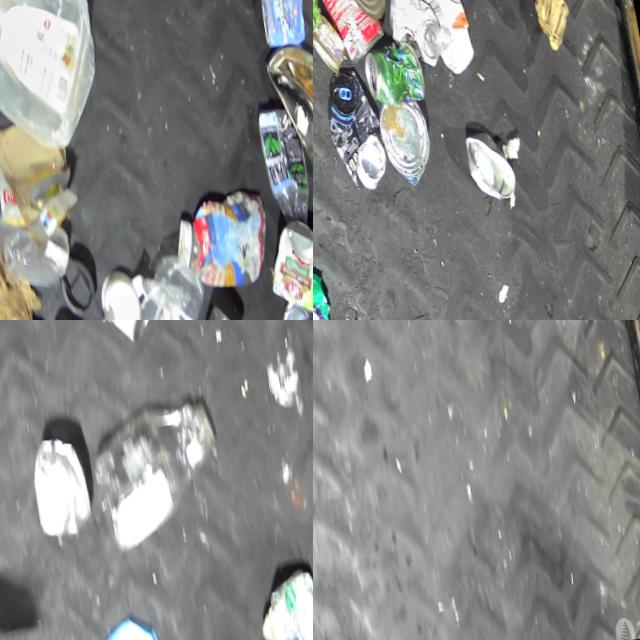can: (319, 66, 391, 195), (257, 213, 313, 320), (375, 98, 437, 189), (313, 0, 388, 66), (359, 38, 425, 109), (381, 0, 445, 72), (461, 129, 519, 207), (71, 320, 165, 352), (250, 0, 310, 50), (313, 10, 348, 75), (313, 265, 337, 320)
milk_jug: (0, 0, 110, 165)
plastic_bottle: (81, 393, 233, 556)
